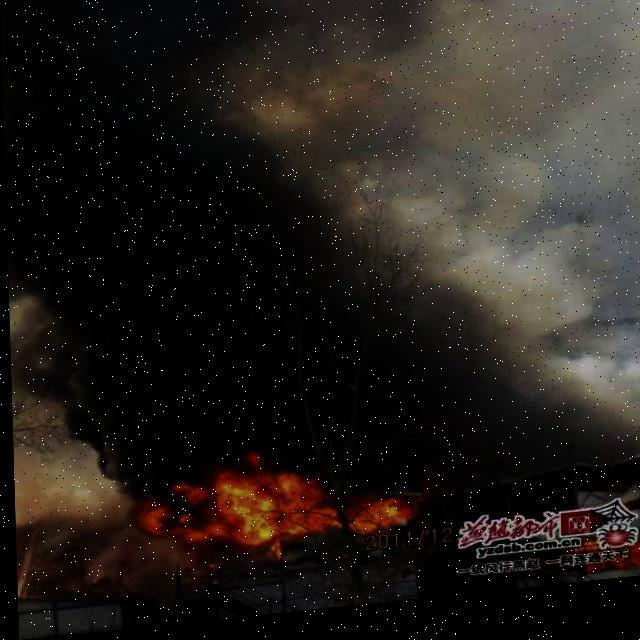Fire: (134, 439, 408, 571)
